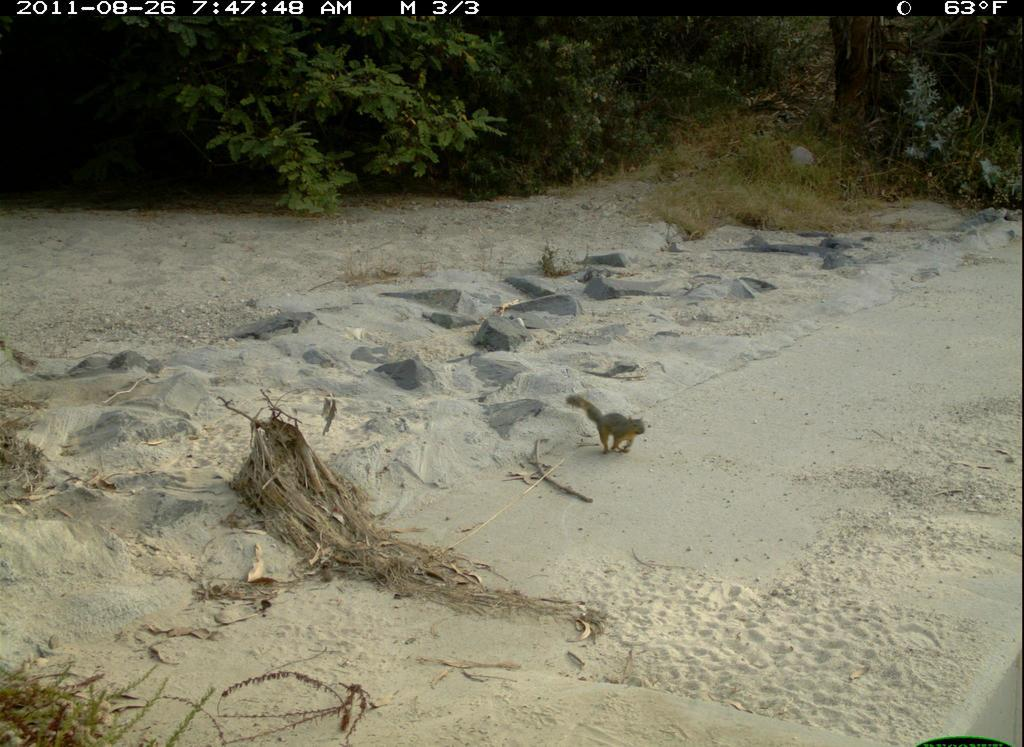squirrel: (562, 378, 669, 464)
